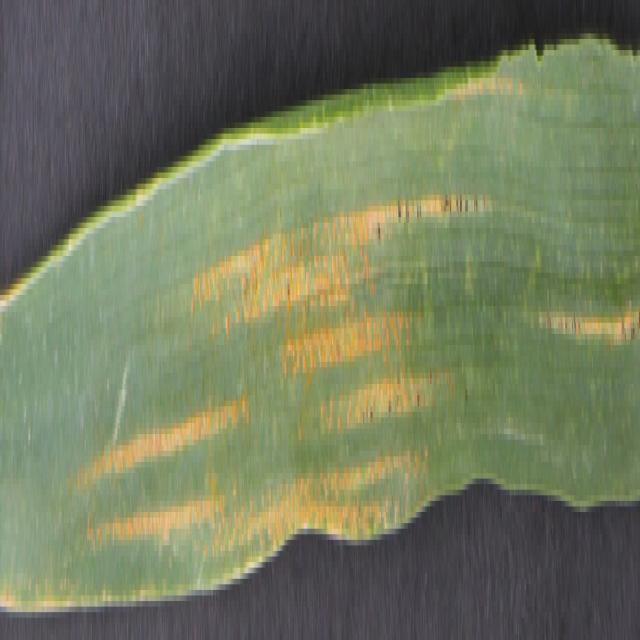leaf rust: (87, 172, 496, 590)
